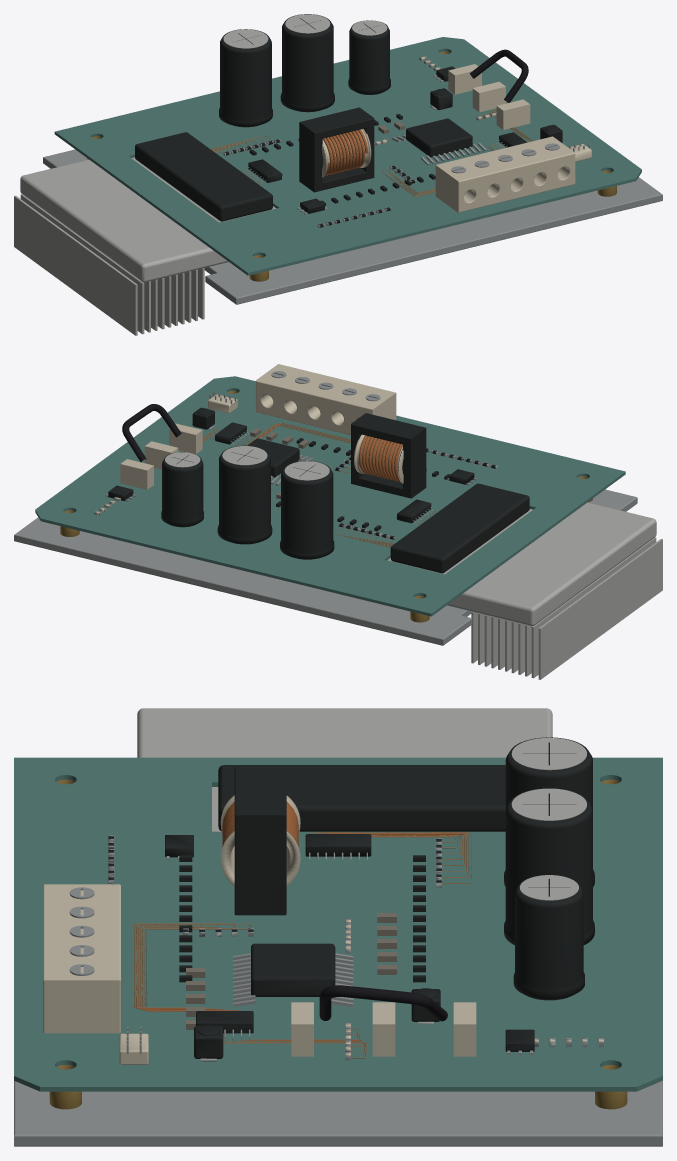
File: aircon-inverter.glb
3 renders of one model, top to bottom at view 1: azimuth 30°, elevation 25°; view 2: azimuth 150°, elevation 25°; view 3: azimuth 270°, elevation 25°, orthographic. The views are drawn at different scales.
Parts seen in each view (by area): view 1: inverter-board; view 2: inverter-board; view 3: inverter-board.
Boxes of the visible parts, x1=… form: inverter-board: x1=14, y1=14, x2=662, y2=335; inverter-board: x1=14, y1=364, x2=662, y2=679; inverter-board: x1=14, y1=708, x2=662, y2=1146.
Bounding box in the file's own units: 0.2926 × 0.0865 × 0.2.
